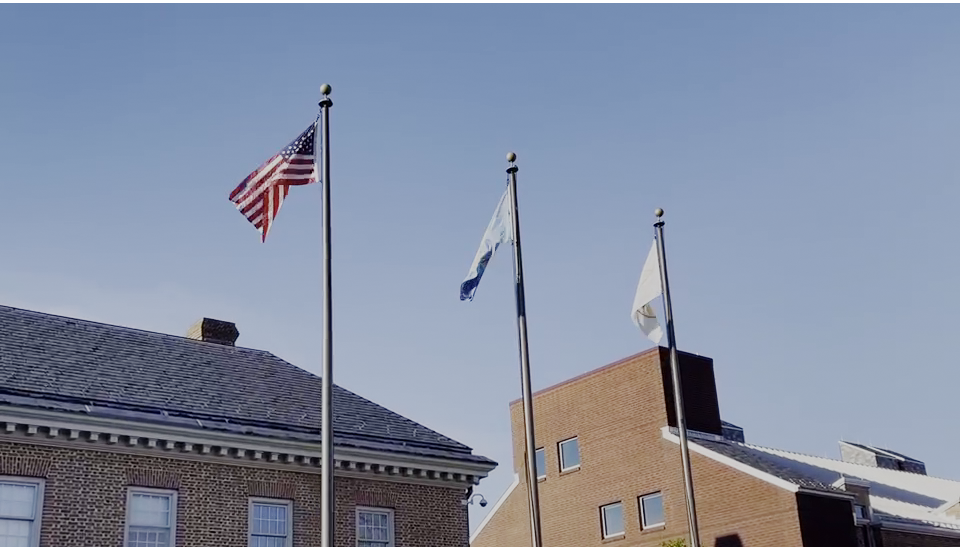America flag: (225, 113, 324, 245)
Delaware flag: (458, 179, 514, 304)
